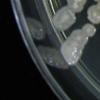white: (62, 38, 84, 66), (51, 6, 76, 30), (85, 4, 100, 24), (72, 28, 89, 45), (67, 0, 87, 14), (81, 22, 94, 37)
